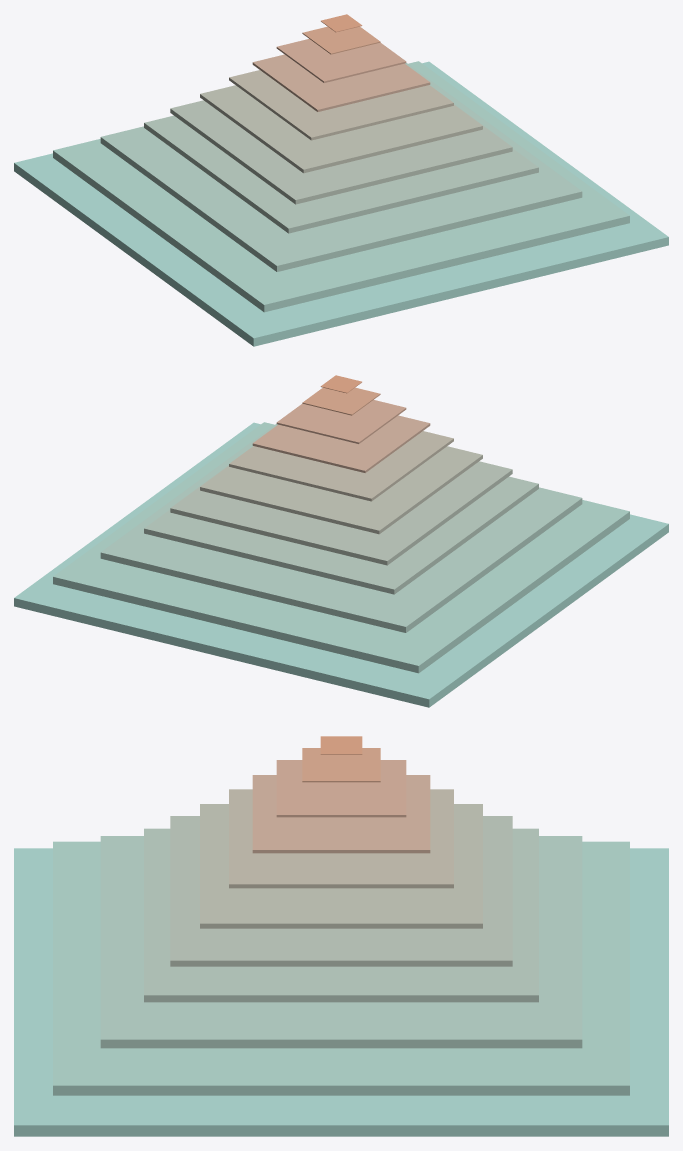
File: building01_animmmm.fbx
3 renders of one model, top to bottom at view 1: azimuth 30°, elevation 25°; view 2: azimuth 150°, elevation 25°; view 3: azimuth 270°, elevation 25°, orthographic. The views are drawn at different scales.
Visible parts, largest first — view 1: pCube68, pCube67, pCube69, pCube70, pCube71, pCube72, pCube73, pCube74, pCube75, pCube76; view 2: pCube68, pCube67, pCube69, pCube70, pCube71, pCube72, pCube73, pCube74, pCube75, pCube76; view 3: pCube68, pCube67, pCube69, pCube70, pCube71, pCube72, pCube73, pCube74, pCube75, pCube76, pCube77.
Part boxes in pixels (x1=…): pCube68: x1=53, y1=61, x2=629, y2=312; pCube67: x1=14, y1=61, x2=668, y2=346; pCube69: x1=100, y1=63, x2=582, y2=271; pCube70: x1=144, y1=115, x2=538, y2=233; pCube71: x1=170, y1=100, x2=512, y2=204; pCube72: x1=200, y1=85, x2=482, y2=173; pCube73: x1=229, y1=70, x2=453, y2=140; pCube74: x1=252, y1=54, x2=430, y2=111; pCube75: x1=276, y1=39, x2=406, y2=82; pCube76: x1=302, y1=26, x2=380, y2=54; pCube68: x1=53, y1=422, x2=629, y2=673; pCube67: x1=14, y1=422, x2=668, y2=707; pCube69: x1=100, y1=424, x2=582, y2=632; pCube70: x1=144, y1=476, x2=538, y2=594; pCube71: x1=170, y1=461, x2=512, y2=565; pCube72: x1=200, y1=446, x2=482, y2=534; pCube73: x1=229, y1=431, x2=453, y2=501; pCube74: x1=252, y1=415, x2=430, y2=472; pCube75: x1=276, y1=400, x2=406, y2=443; pCube76: x1=302, y1=387, x2=380, y2=415; pCube68: x1=53, y1=841, x2=629, y2=1095; pCube67: x1=14, y1=848, x2=668, y2=1136; pCube69: x1=100, y1=836, x2=582, y2=1048; pCube70: x1=144, y1=828, x2=538, y2=1002; pCube71: x1=170, y1=816, x2=512, y2=966; pCube72: x1=200, y1=804, x2=482, y2=928; pCube73: x1=229, y1=789, x2=453, y2=888; pCube74: x1=252, y1=775, x2=430, y2=853; pCube75: x1=276, y1=760, x2=406, y2=817; pCube76: x1=302, y1=748, x2=380, y2=782; pCube77: x1=320, y1=736, x2=362, y2=754.
Size of the model in its own units: 1312 by 559 by 1312.
